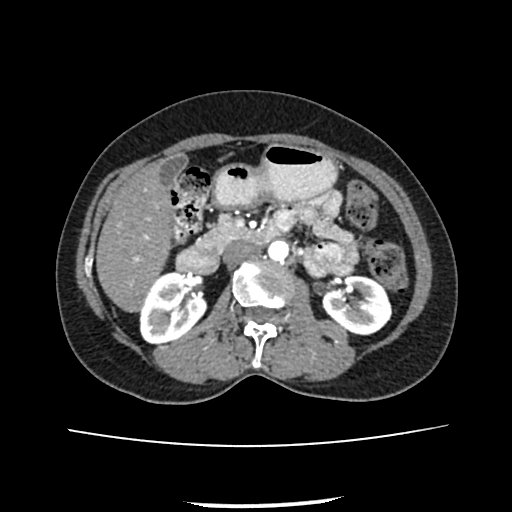aorta: (266, 238, 290, 261)
